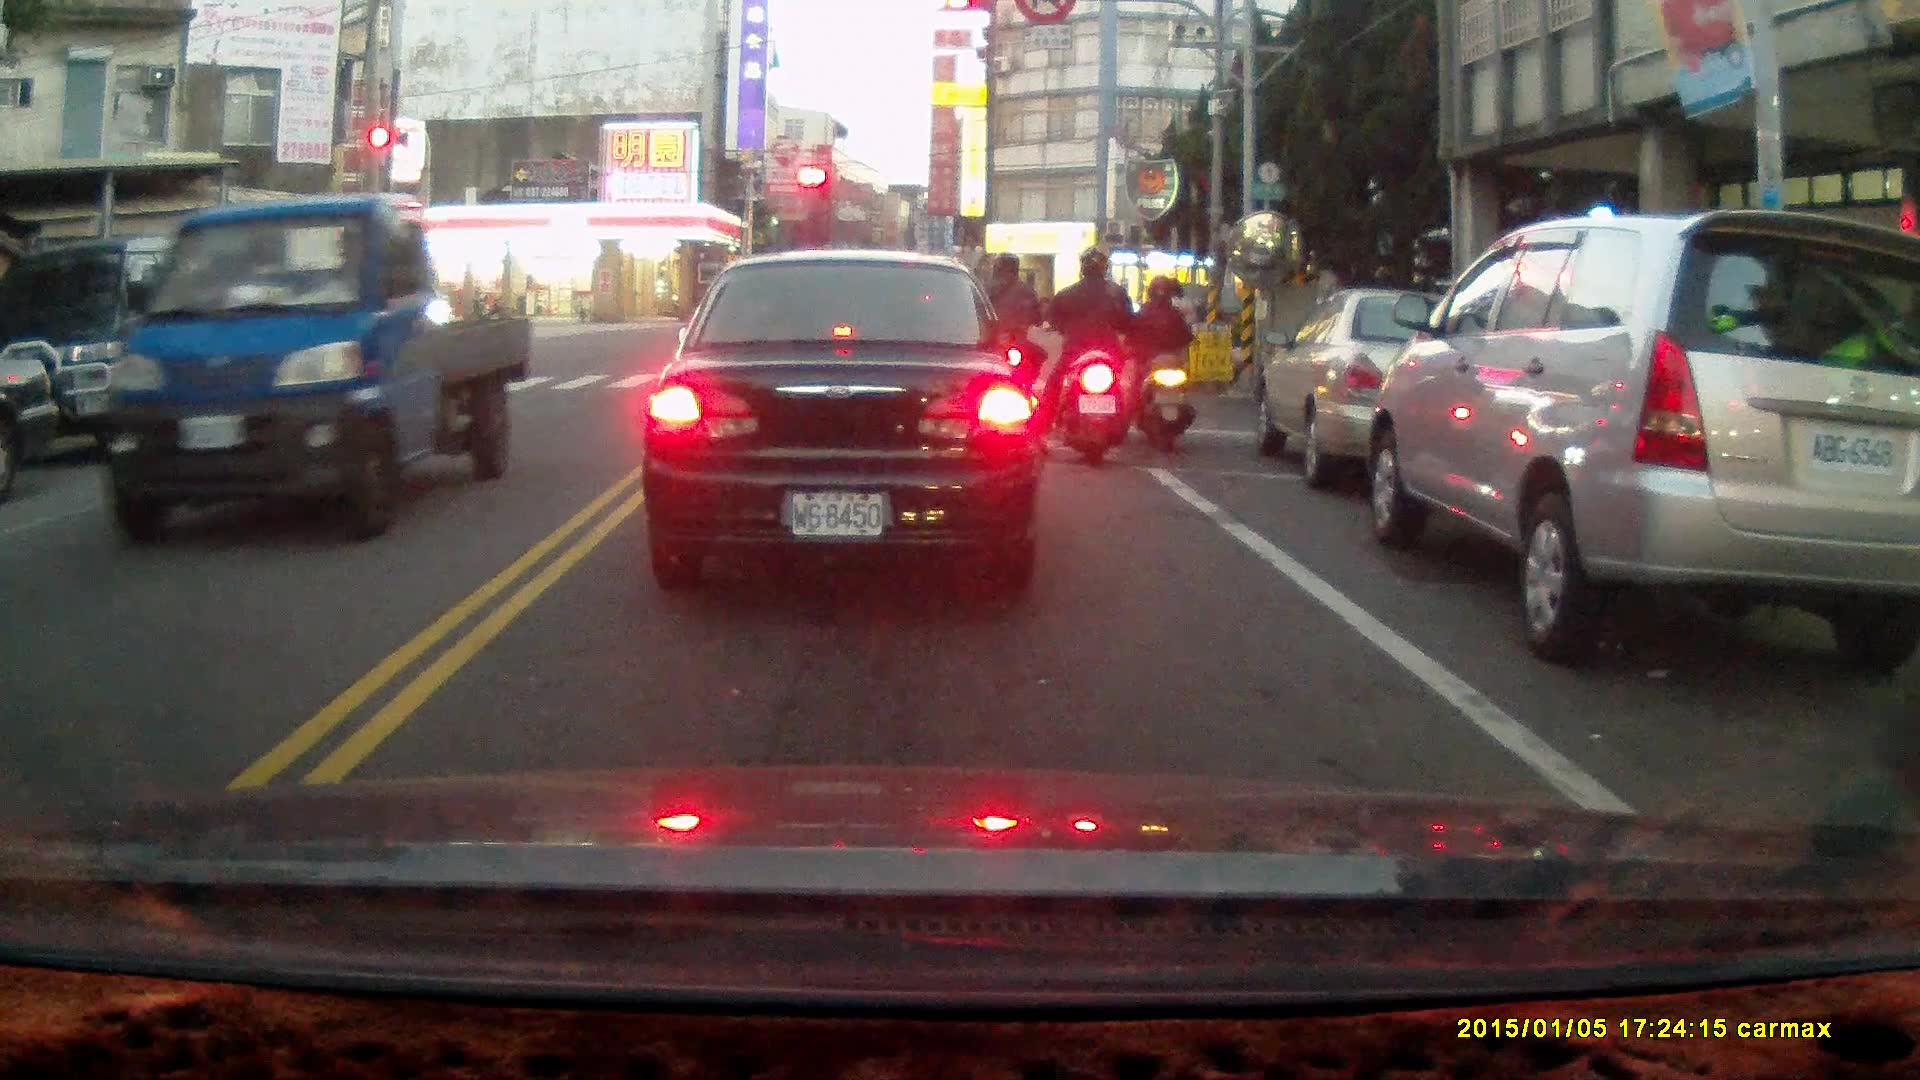rider: (1036, 250, 1140, 466), (965, 255, 1046, 433), (1125, 276, 1193, 451)
vehicle: (1357, 214, 1915, 658), (93, 190, 525, 545), (641, 250, 1042, 595), (1253, 284, 1548, 493), (6, 235, 267, 456)
